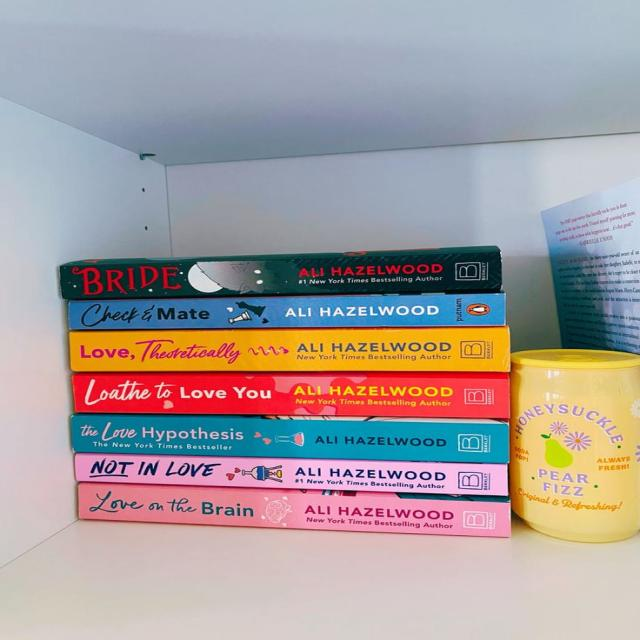book: (78, 484, 510, 536), (58, 252, 501, 299), (69, 418, 509, 464), (70, 328, 509, 371), (72, 375, 510, 418), (74, 455, 510, 497), (67, 294, 505, 331)
